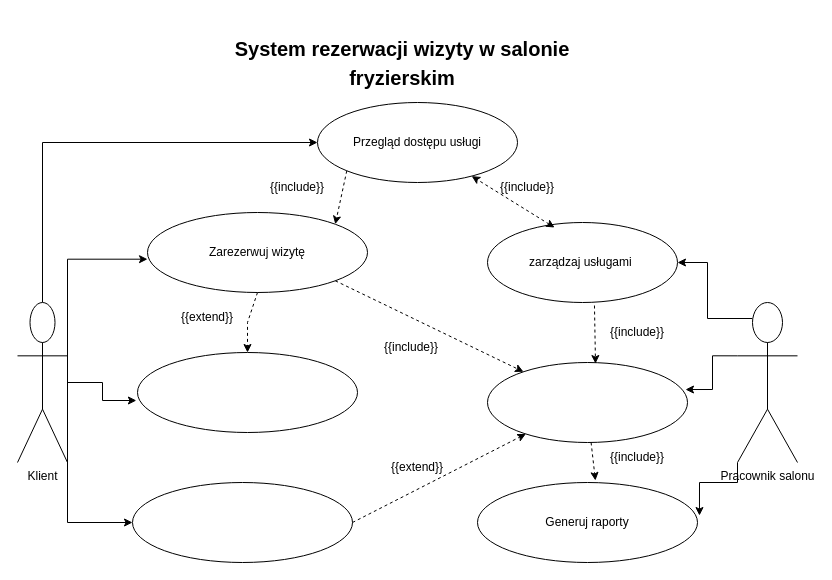
The diagram is 832 pixels wide and 580 high, and some of its shapes have lost their labels. Each missing label, with the centre of its shape:
"Anuluj wizytę" belongs at pixel 247 392.
"Wyświetl historię wizyty" belongs at pixel 242 522.
"Zarządzaj terminami pracowników" belongs at pixel 587 402.
